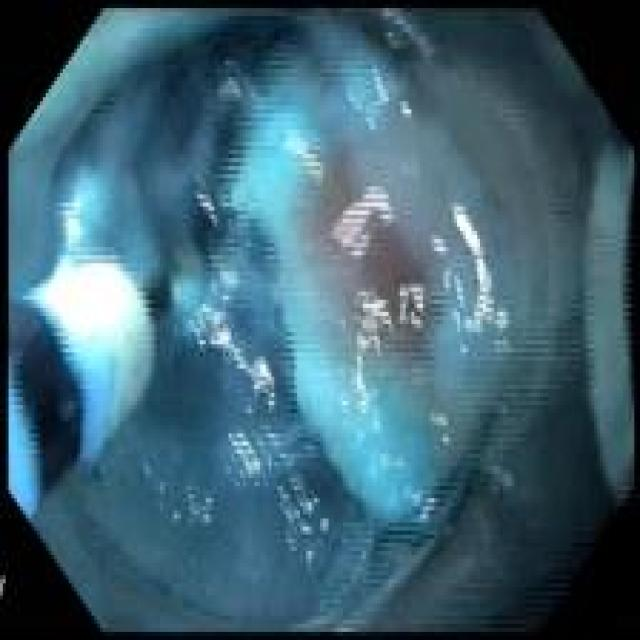instrument: (8, 257, 204, 522)
saturation: (39, 265, 138, 364)
specularity: (187, 307, 275, 412), (454, 205, 511, 332), (355, 289, 393, 416), (332, 189, 392, 259), (383, 9, 434, 58), (286, 133, 324, 180), (277, 488, 321, 521), (228, 433, 261, 476), (399, 283, 426, 331), (188, 488, 213, 526), (251, 433, 275, 471), (267, 430, 291, 464), (66, 199, 82, 245), (195, 191, 216, 223), (373, 67, 389, 104), (365, 103, 382, 130), (422, 497, 438, 522), (219, 272, 238, 289), (456, 275, 465, 307), (349, 91, 363, 110), (495, 339, 510, 356), (432, 236, 445, 255), (286, 532, 298, 550), (373, 407, 381, 434), (430, 415, 447, 427), (301, 524, 314, 537), (406, 492, 420, 503), (454, 313, 461, 334), (401, 103, 411, 117), (378, 458, 392, 468), (340, 396, 347, 413), (444, 271, 450, 289), (320, 521, 330, 531), (172, 513, 181, 522), (461, 344, 466, 359), (306, 552, 313, 562), (444, 436, 450, 447), (159, 485, 165, 494)
